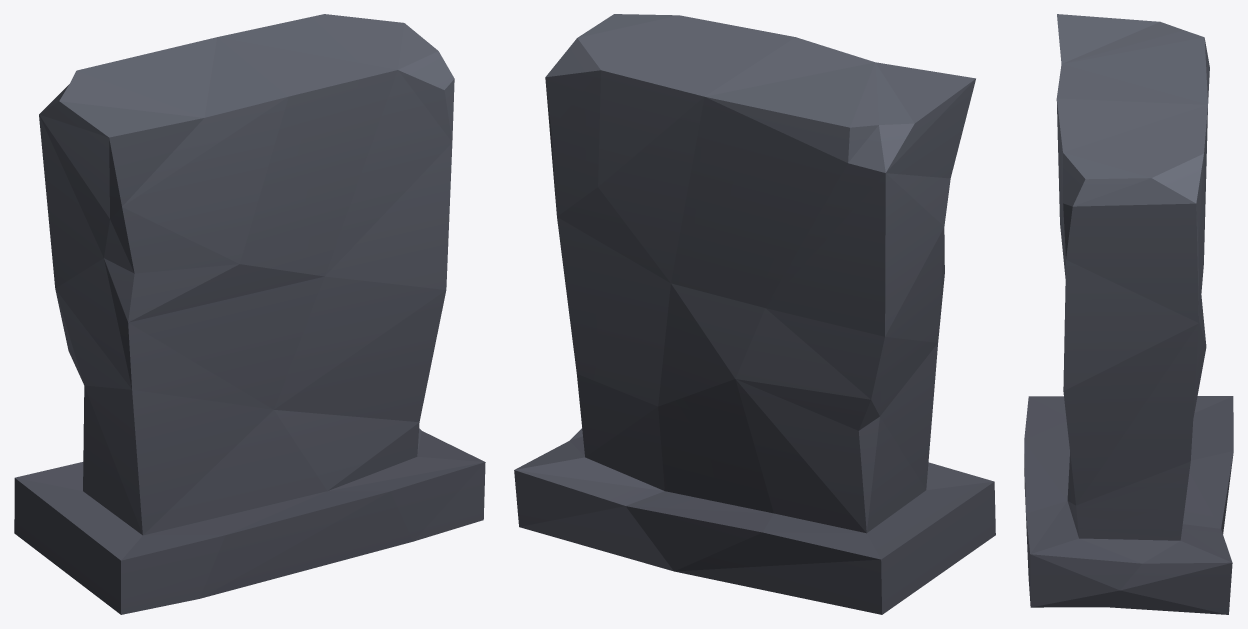
The model's file is Gravestone_02.fbx.
3 views of the same model, side by side, from view 1: azimuth 30°, elevation 25°; view 2: azimuth 150°, elevation 25°; view 3: azimuth 270°, elevation 25° (orthographic). The views are drawn at different scales.
Visible parts, largest first — view 1: Gravestone_02; view 2: Gravestone_02; view 3: Gravestone_02.
Part boxes in pixels (x1,y1,x2,y2): Gravestone_02: (14, 14, 485, 614); Gravestone_02: (514, 14, 995, 614); Gravestone_02: (1024, 14, 1233, 614).
Size of the model in its own units: 0.7071 by 0.8856 by 0.3725.
